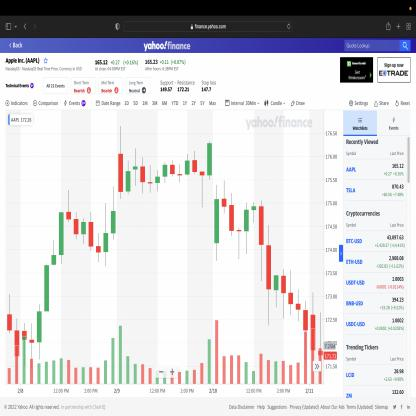Bullish: 3 White Soldiers: (36, 238, 57, 361), (44, 210, 66, 315)
Bullish: Hammer: (227, 190, 250, 262), (191, 139, 214, 211)
